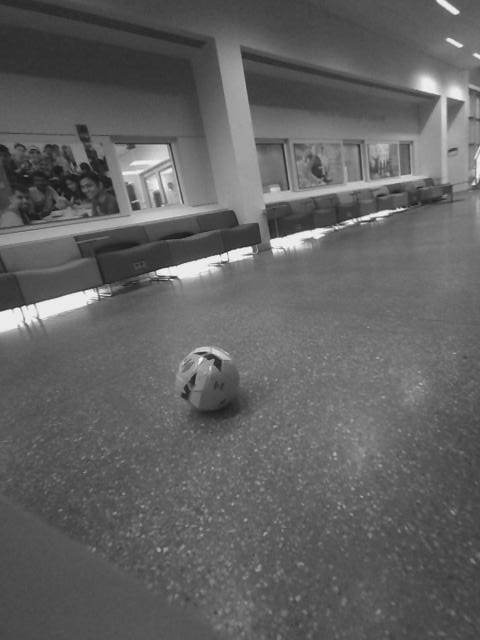ball: (168, 338, 245, 417)
